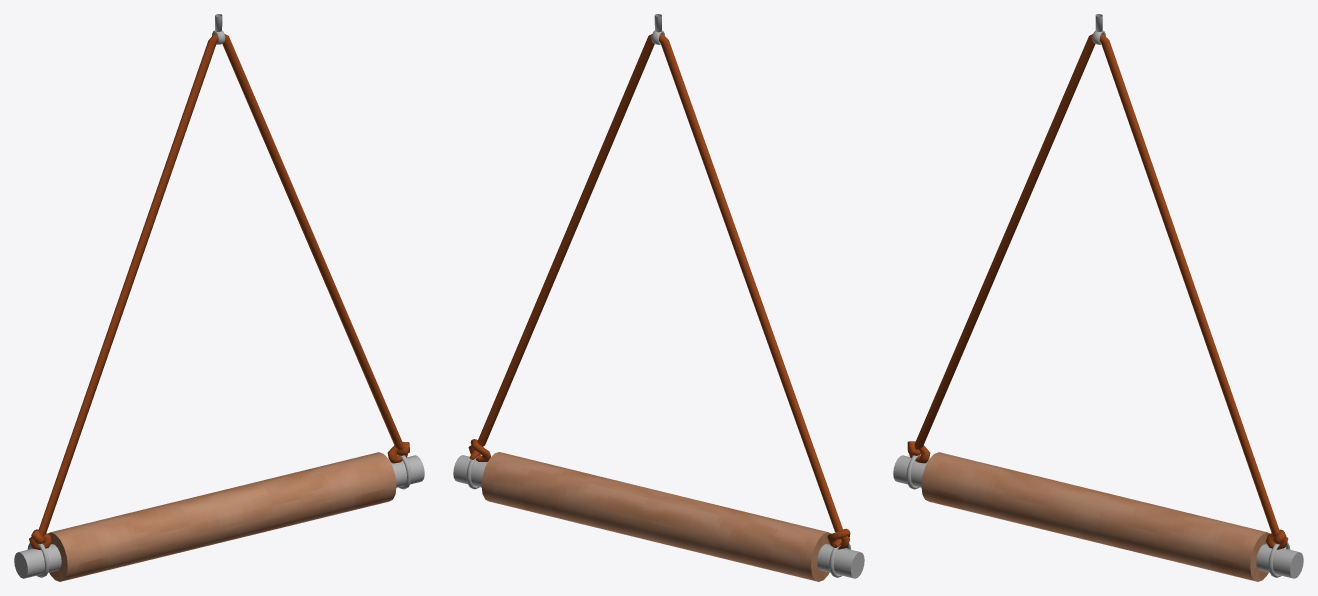
File: Mdl_Swing.fbx
3 views of the same model, side by side, from view 1: azimuth 30°, elevation 25°; view 2: azimuth 150°, elevation 25°; view 3: azimuth 330°, elevation 25° (orthographic).
Visible parts, largest first — view 1: swing; view 2: swing; view 3: swing.
Boxes of the visible parts, x1,y1,x2,y2 form: swing: (14,34,424,581); swing: (453,33,864,581); swing: (893,34,1303,581).
Bounding box in the file's own units: 67.99 × 85.8 × 7.54.
Materials: 3 (1 with a texture image).
